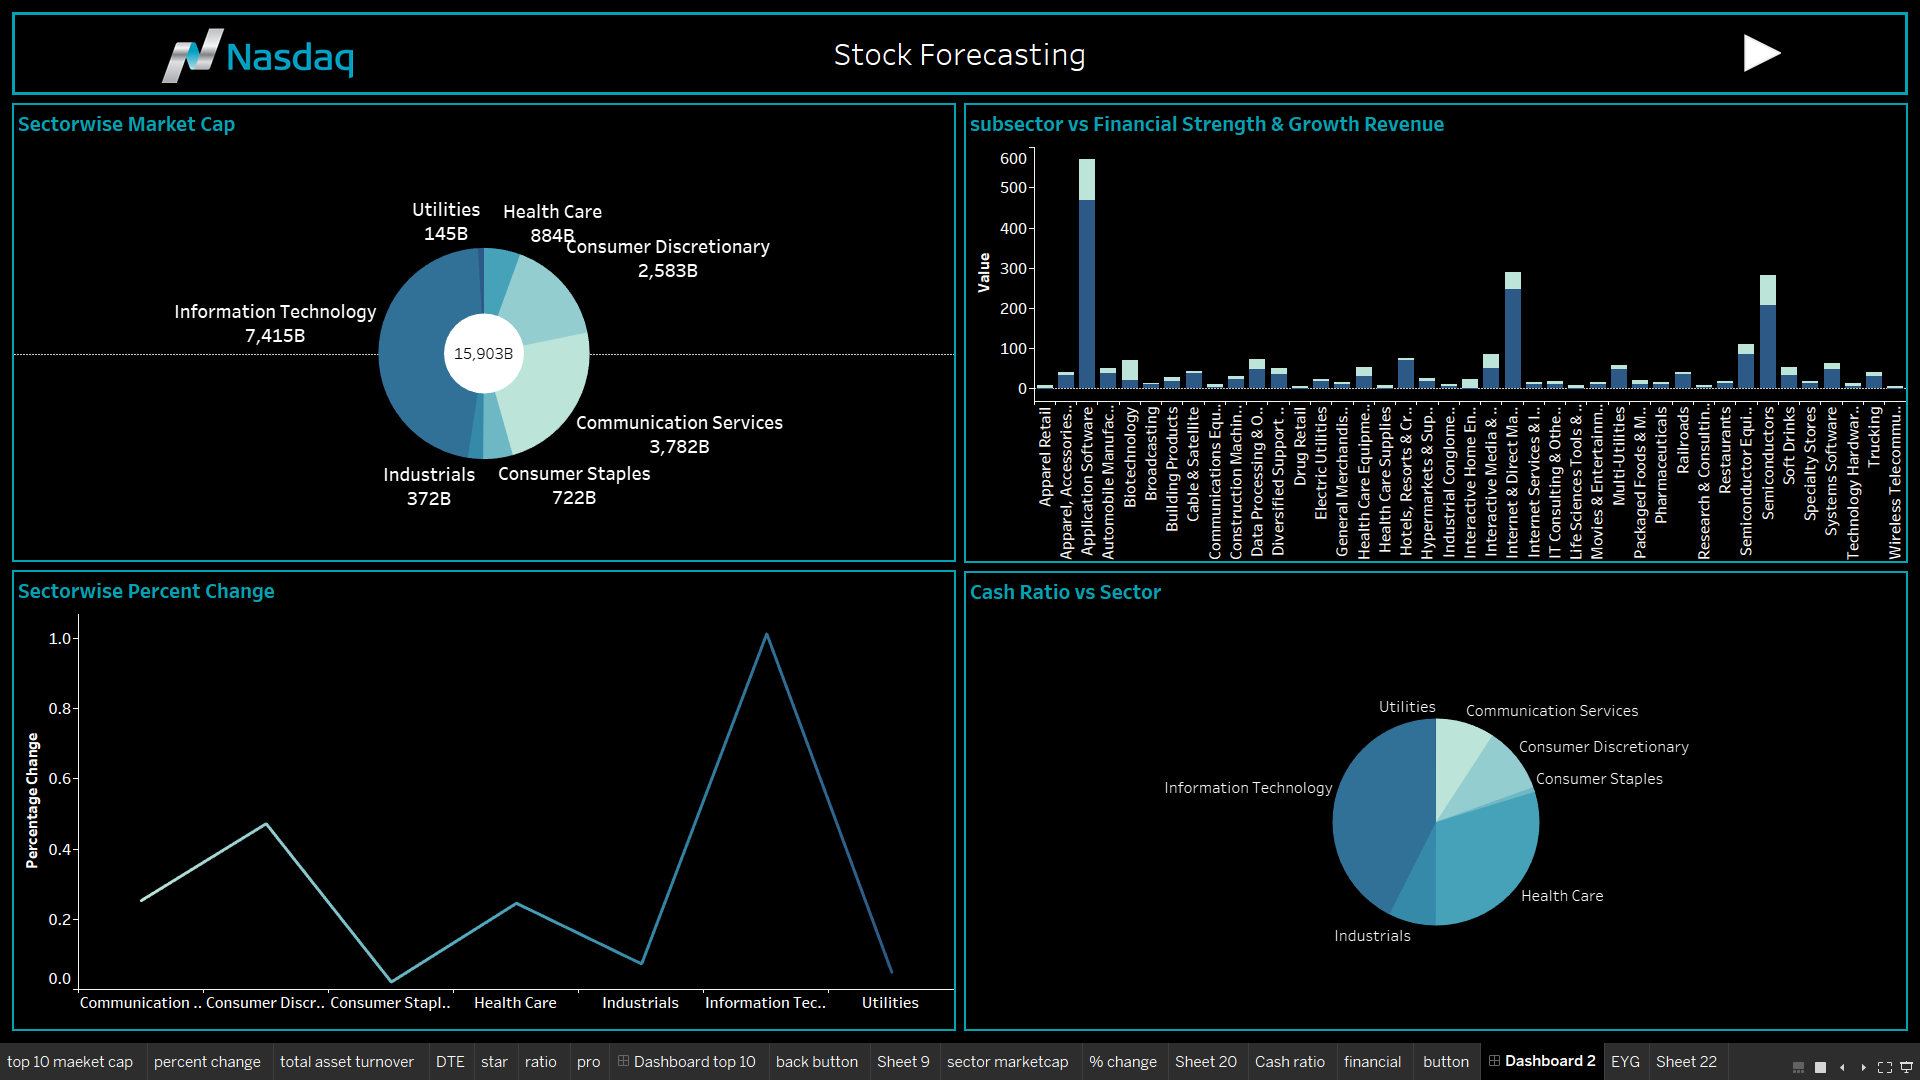

Layout of this report page (visuals, bound fields, positions):
{"tool":"tableau","page":{"name":"Dashboard 2","canvas":[1000,1000],"units":"permille","ordinal":0},"visuals":[{"type":"title","box":[4.8,9.4,990.3,106.9]},{"type":"image","param":"C:/Users/sanik/OneDrive/Desktop/DHV/internals/e4cd152ba0a0ab4bfecad25a341a46b7.j","box":[8.5,27,250.9,52.9]},{"type":"worksheet","title":"sector marketcap","mark":"Pie","rows":["Calculation_1291970191701757955","Calculation_1291970191701757955"],"box":[4.8,116.3,495,436.3]},{"type":"worksheet","title":"financial","mark":"Bar","cols":["subsector"],"box":[499.8,116.3,495.4,436.8]},{"type":"worksheet","title":"% change","mark":"Line","rows":["Percentage Change"],"cols":["sector"],"box":[4.8,552.6,495,438]},{"type":"worksheet","title":"Cash ratio","mark":"Pie","box":[499.8,553.1,495.4,437.5]}]}

Visuals, with their boxes on the dashboard's canvas, which has no fixed pixel size, in thousandths of its width and height (x1, y1, x2, y2). These are canvas units, not pixel positions in the 1920x1080 screenshot, which may show the page scaled, cropped or inside an application window:
title: detection(5, 9, 995, 116)
image: detection(8, 27, 259, 80)
"sector marketcap" worksheet (Pie marks): detection(5, 116, 500, 553)
"financial" worksheet (Bar marks): detection(500, 116, 995, 553)
"% change" worksheet (Line marks): detection(5, 553, 500, 991)
"Cash ratio" worksheet (Pie marks): detection(500, 553, 995, 991)
